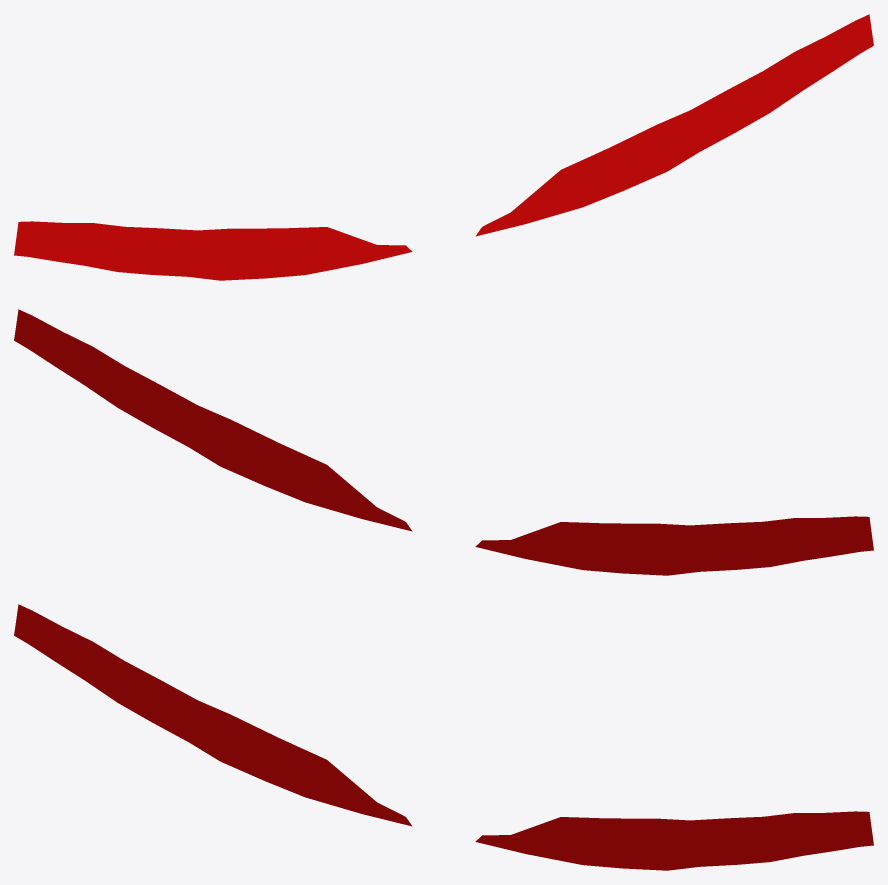
The model's file is frame66.fbx.
3 views of the same model, one above another, from view 1: azimuth 30°, elevation 25°; view 2: azimuth 150°, elevation 25°; view 3: azimuth 330°, elevation 25° (orthographic).
Parts seen in each view (by area): view 1: MaterialLayer; view 2: MaterialLayer; view 3: MaterialLayer.
Part boxes in pixels (x1,y1,x2,y2): MaterialLayer: [14, 14, 873, 280]; MaterialLayer: [14, 309, 873, 575]; MaterialLayer: [14, 604, 873, 870].
Size of the model in its own units: 1267 by 178 by 0.
